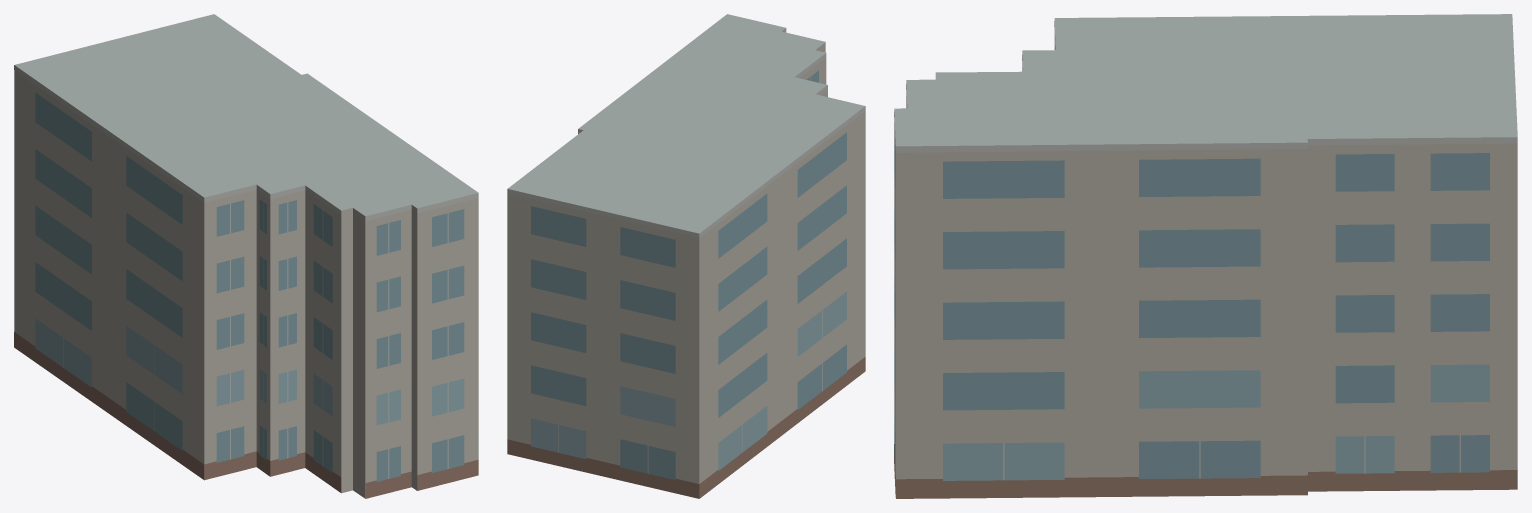
File: survey-upis-32901618.glb
The picture shows the model from 3 angles, left to right: view 1: azimuth 30°, elevation 25°; view 2: azimuth 150°, elevation 25°; view 3: azimuth 270°, elevation 25°; orthographic projection. The views are drawn at different scales.
Parts seen in each view (by area): view 1: survey-upis-32901618.tmp; view 2: survey-upis-32901618.tmp; view 3: survey-upis-32901618.tmp.
Boxes of the visible parts, x1,y1,x2,y2 form: survey-upis-32901618.tmp: (14, 14, 478, 498); survey-upis-32901618.tmp: (507, 14, 865, 498); survey-upis-32901618.tmp: (894, 14, 1517, 498).
Size of the model in its own units: 11.12 by 13.8 by 22.14.
